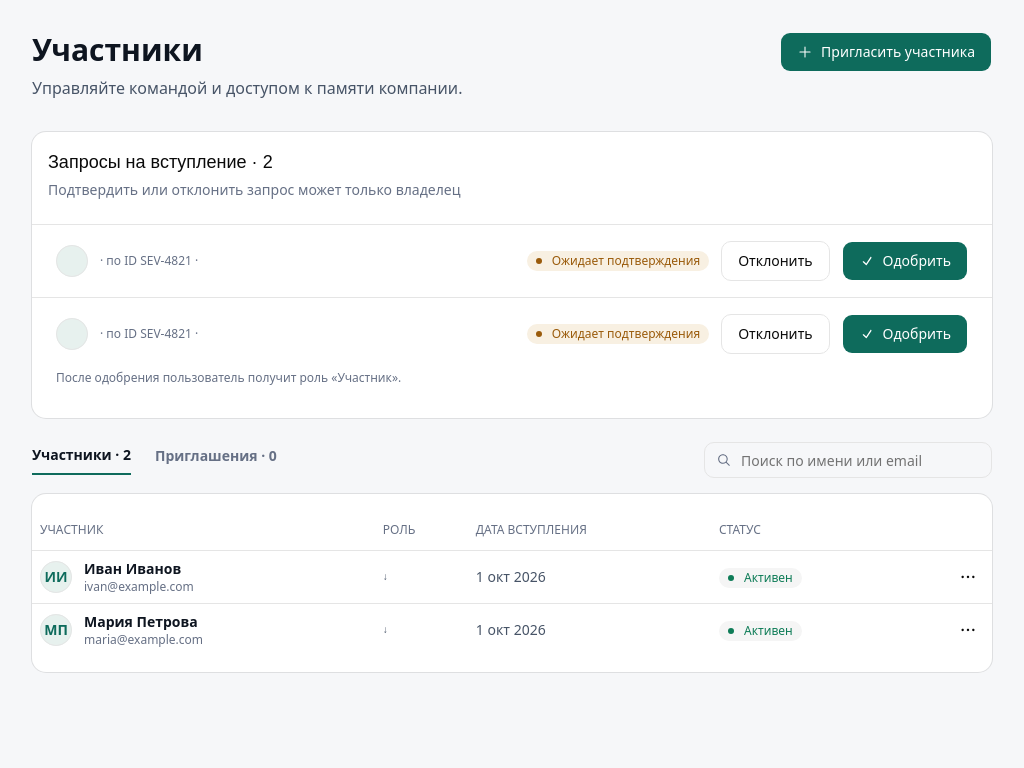
Test case: MembersPage › переключает вкладку на приглашения
The width and height of the screenshot is (1024, 768).
Click the button "Приглашения · 0".
click(216, 460)  # box top-left (155, 445), bottom-right (277, 475)
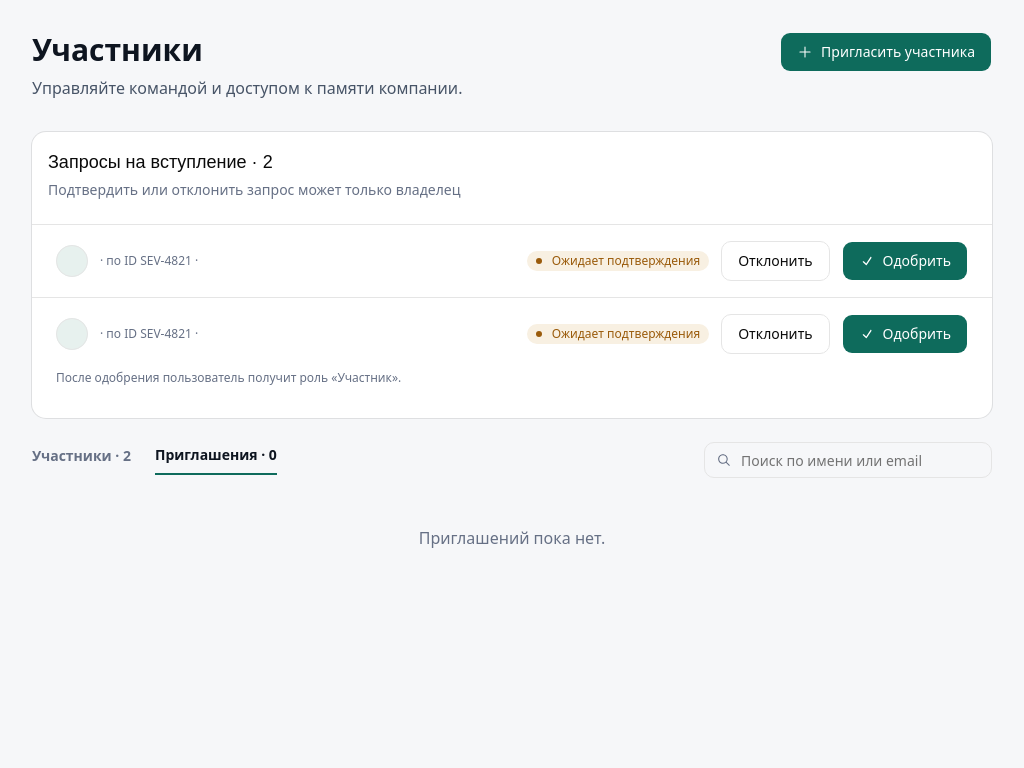
Now the text "Приглашений пока нет." is shown, box top-left (419, 527), bottom-right (605, 549)
